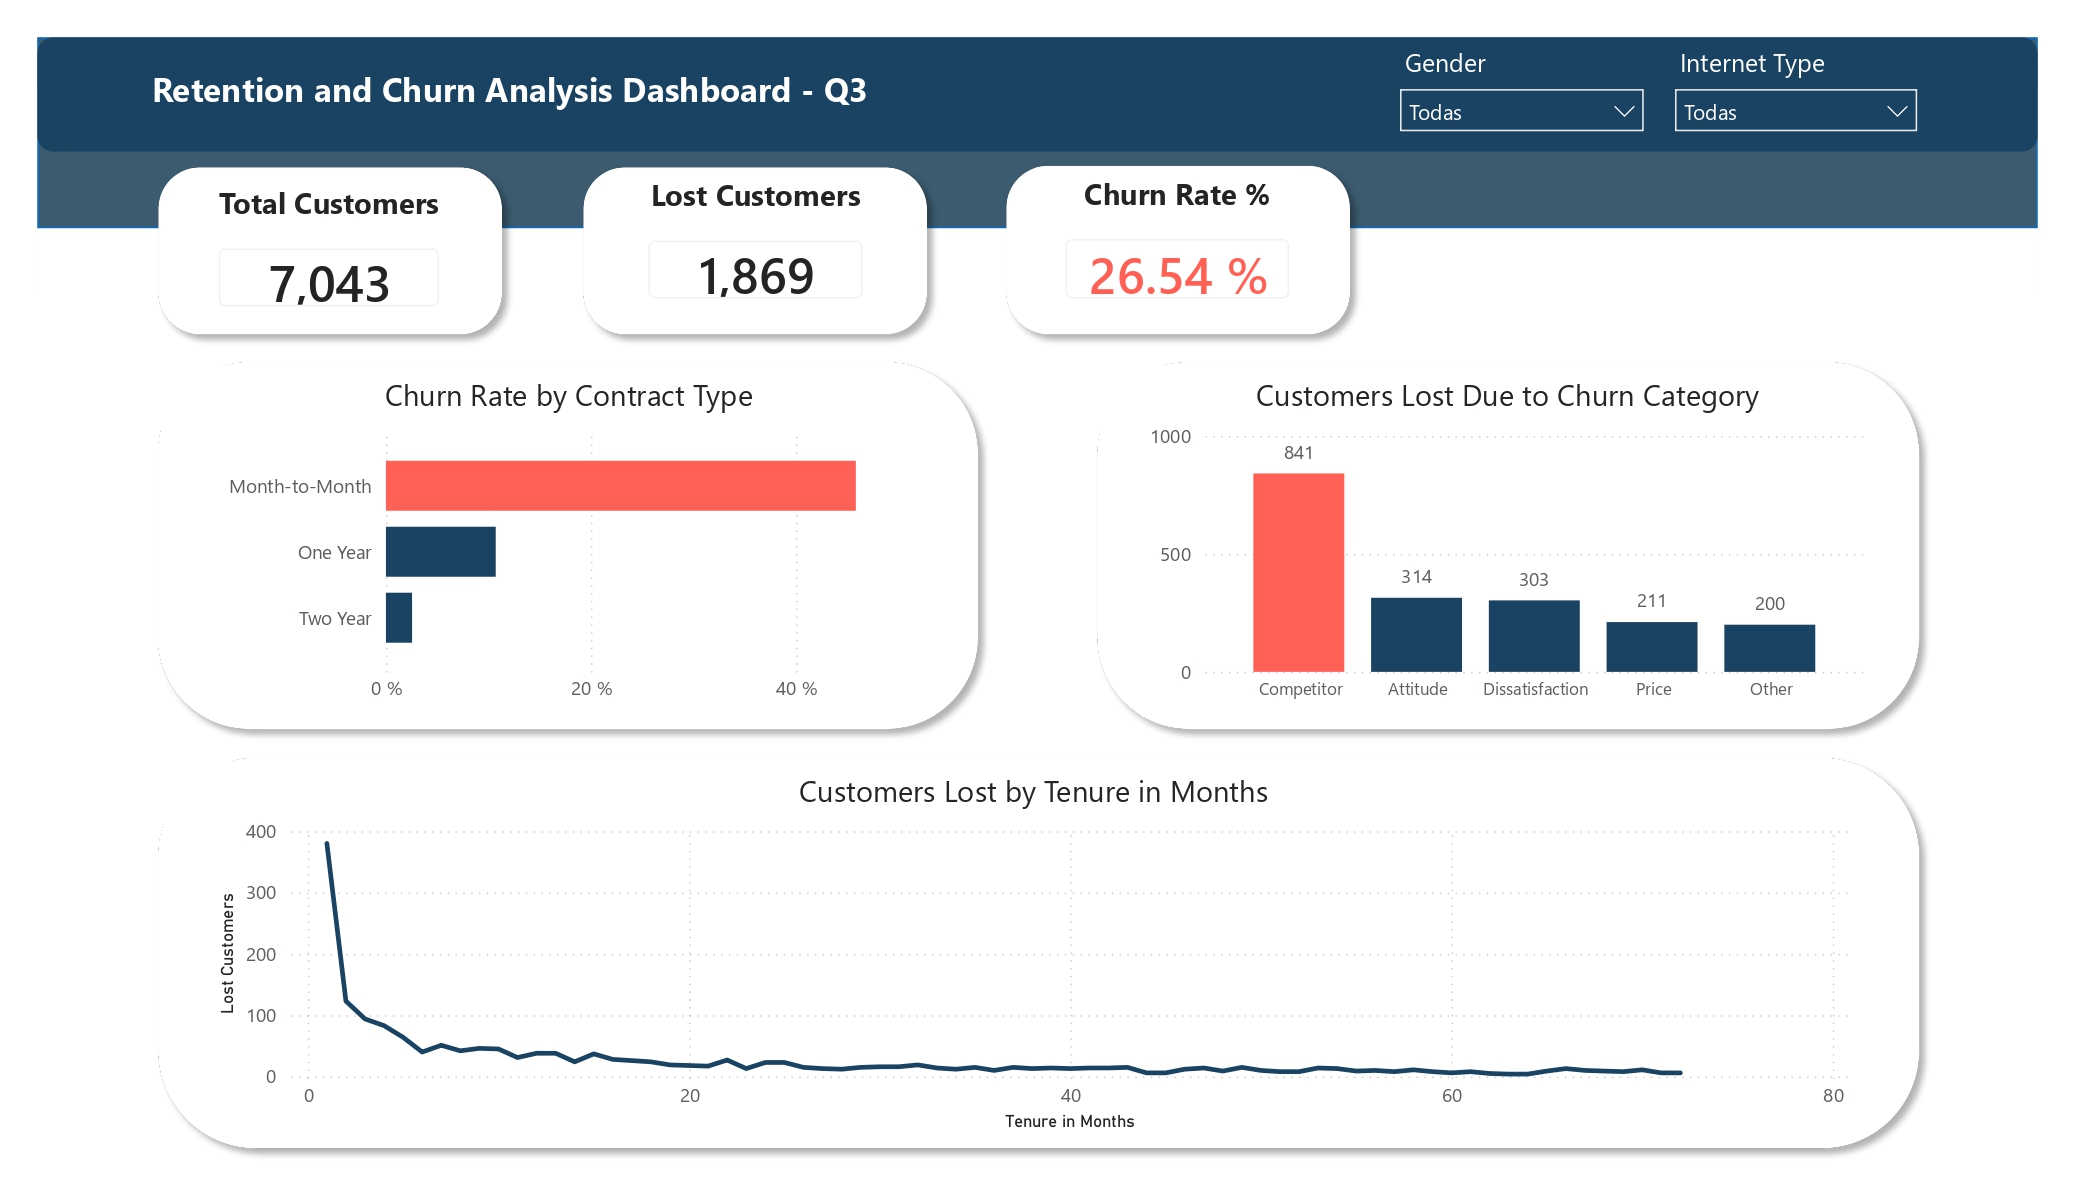

This screenshot's page, from the dashboard's own definition file:
{"tool":"powerbi","page":{"name":"Página 1","canvas":[1280,720],"ordinal":0},"visuals":[{"type":"shape","box":[0,0,1280,122],"z":0},{"type":"shape","box":[0,0,1280,73],"z":1000},{"type":"textbox","box":[68,13,506,42],"z":2000},{"type":"slicer","fields":{"Values":["telco.Internet Type"]},"box":[1038,0,175,67],"z":3000},{"type":"slicer","fields":{"Values":["telco.Gender"]},"box":[862,0,176,67],"z":4000},{"type":"shape","box":[68,74,238,125],"z":5000,"group":"g6"},{"type":"group","id":"g1","title":"Grupo 1","box":[669,199,544,253],"z":5000},{"type":"shape","box":[340,74,238,125],"z":6000,"group":"g5"},{"type":"group","id":"g2","title":"Grupo 2","box":[68,199,543,253],"z":6000},{"type":"shape","box":[611,73,238,126],"z":7000,"group":"g4"},{"type":"group","id":"g3","title":"Grupo 3","box":[68,452,1145,268],"z":7000},{"type":"group","id":"g4","title":"Grupo 4","box":[611,73,238,126],"z":8000},{"type":"cardVisual","title":"Total Customers","fields":{"Data":["telco.Total Clientes"]},"box":[99.1,92.6,175,96.3],"z":8000,"group":"g6"},{"type":"group","id":"g5","title":"Grupo 5","box":[340,74,238,125],"z":9000},{"type":"cardVisual","title":"Lost Customers","fields":{"Data":["telco.Clientes Perdidos"]},"box":[374.3,88.1,171,96],"z":9000,"group":"g5"},{"type":"group","id":"g6","title":"Grupo 6","box":[68,74,238,125],"z":10000},{"type":"cardVisual","title":"Churn Rate %","fields":{"Data":["telco.Tasa Churn %"]},"box":[641,87,177,97],"z":10000,"group":"g4"},{"type":"shape","box":[68,199,543,253],"z":11000,"group":"g2"},{"type":"shape","box":[669,199,544,253],"z":12000,"group":"g1"},{"type":"shape","box":[68,452,1145,268],"z":13000,"group":"g3"},{"type":"clusteredBarChart","title":"Churn Rate by Contract Type","fields":{"Category":["telco.Contract"],"Y":["telco.Tasa Churn %"]},"box":[109.7,215.9,460.6,219.3],"z":14000,"group":"g2"},{"type":"clusteredColumnChart","title":"Customers Lost Due to Churn Category","fields":{"Category":["telco.Churn Category"],"Y":["telco.Clientes Perdidos"]},"box":[706.9,215.9,468.2,219.3],"z":15000,"group":"g1"},{"type":"lineChart","title":"Customers Lost by Tenure in Months","fields":{"Category":["telco.Tenure in Months"],"Y":["telco.Clientes Perdidos"]},"box":[111,469,1053,235],"z":16000,"group":"g3"}]}

Visuals, with their boxes on the page's 1280x720 design canvas (x1, y1, x2, y2). These are canvas units, not pixel positions in the 2075x1200 screenshot, which may show the page scaled, cropped or inside an application window:
shape: locate(0, 0, 1280, 122)
shape: locate(0, 0, 1280, 73)
textbox: locate(68, 13, 574, 55)
slicer - telco.Internet Type: locate(1038, 0, 1213, 67)
slicer - telco.Gender: locate(862, 0, 1038, 67)
shape: locate(68, 74, 306, 199)
"Grupo 1" group: locate(669, 199, 1213, 452)
shape: locate(340, 74, 578, 199)
"Grupo 2" group: locate(68, 199, 611, 452)
shape: locate(611, 73, 849, 199)
"Grupo 3" group: locate(68, 452, 1213, 720)
"Grupo 4" group: locate(611, 73, 849, 199)
"Total Customers" cardVisual: locate(99, 93, 274, 189)
"Grupo 5" group: locate(340, 74, 578, 199)
"Lost Customers" cardVisual: locate(374, 88, 545, 184)
"Grupo 6" group: locate(68, 74, 306, 199)
"Churn Rate %" cardVisual: locate(641, 87, 818, 184)
shape: locate(68, 199, 611, 452)
shape: locate(669, 199, 1213, 452)
shape: locate(68, 452, 1213, 720)
"Churn Rate by Contract Type" clusteredBarChart: locate(110, 216, 570, 435)
"Customers Lost Due to Churn Category" clusteredColumnChart: locate(707, 216, 1175, 435)
"Customers Lost by Tenure in Months" lineChart: locate(111, 469, 1164, 704)
